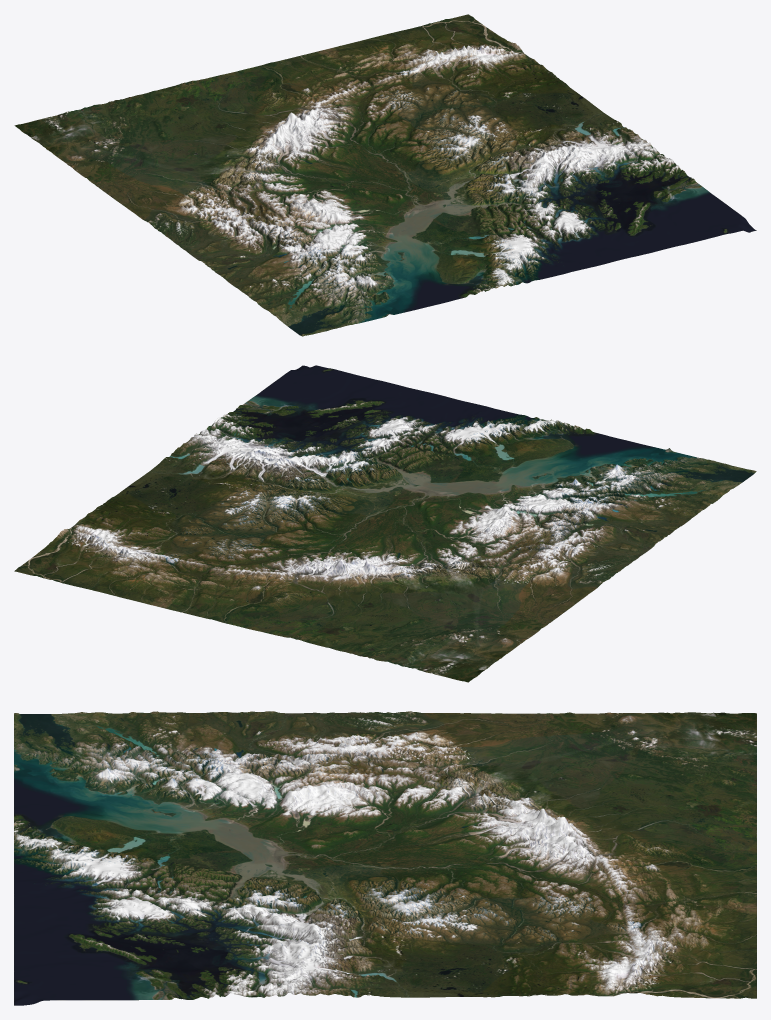
File: denali.glb
3 renders of one model, top to bottom at view 1: azimuth 30°, elevation 25°; view 2: azimuth 150°, elevation 25°; view 3: azimuth 270°, elevation 25°, orthographic. The views are drawn at different scales.
Parts seen in each view (by area): view 1: Object_4, Object_5, Object_6; view 2: Object_4, Object_5, Object_6; view 3: Object_4, Object_5, Object_6.
Boxes of the visible parts, x1=… form: Object_4: x1=14, y1=14, x2=756, y2=230; Object_5: x1=129, y1=97, x2=755, y2=288; Object_6: x1=238, y1=179, x2=754, y2=336; Object_4: x1=14, y1=365, x2=582, y2=682; Object_5: x1=130, y1=365, x2=692, y2=598; Object_6: x1=239, y1=365, x2=756, y2=563; Object_4: x1=14, y1=712, x2=756, y2=1005; Object_5: x1=14, y1=711, x2=461, y2=1004; Object_6: x1=14, y1=711, x2=461, y2=1004.
Size of the model in its own units: 1061246 by 52725 by 1166295.
1 material, 1 textured.
